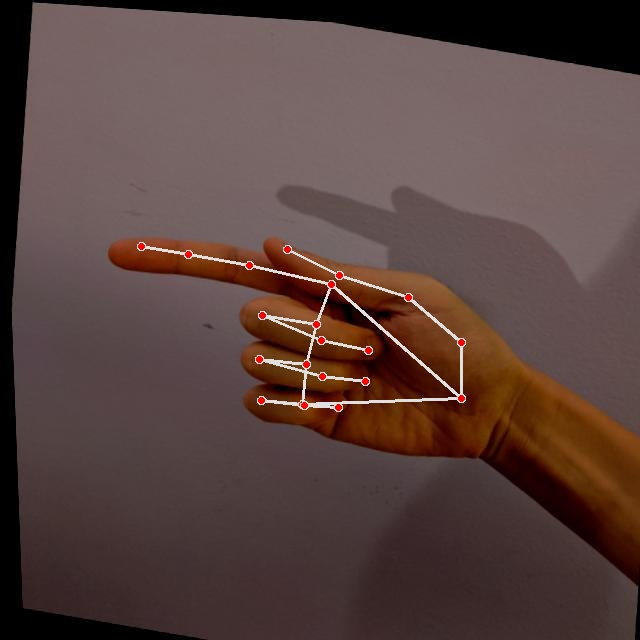G: (80, 199, 532, 476)
